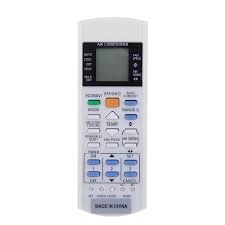remote control: (78, 15, 151, 225)
